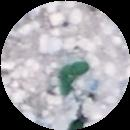Basil: (58, 58, 91, 76)
